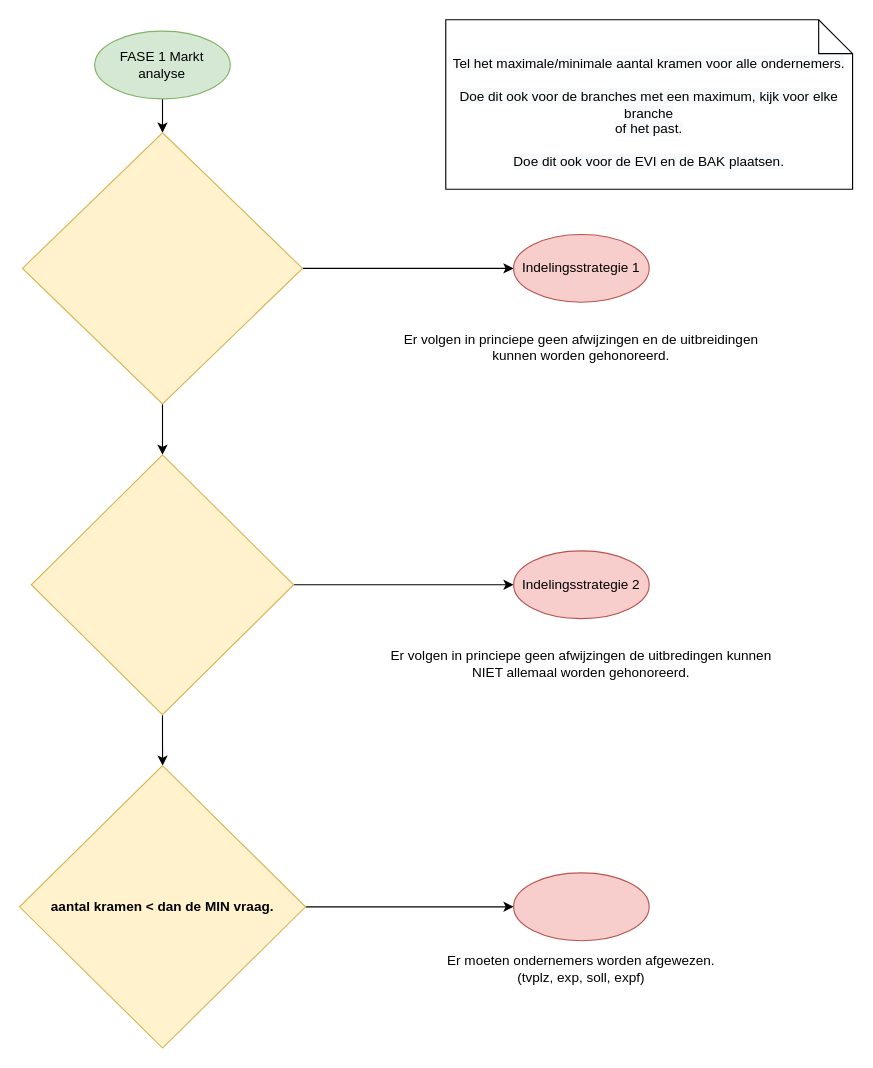
This 873x1068 diagram has some shape labels left out. The shapes that lost their labels are listed below. From the top down, each one's centre as x and y in pixels, then its label:
At point (162, 268): "aantal kramen > dan de MAX vraag.".
At point (162, 584): "aantal kramen > dan de MIN vraag.".
At point (580, 906): "Indelingsstrategie 3".
